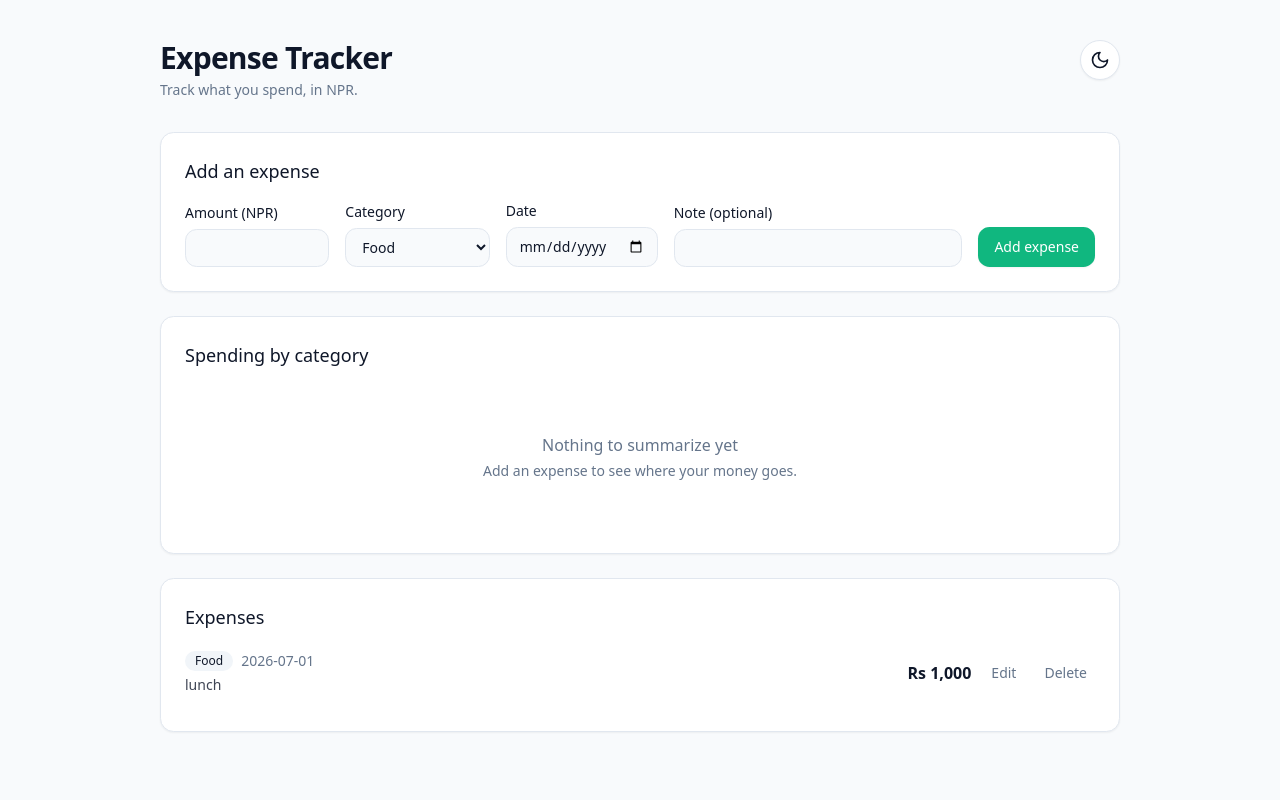
B-3: delete an expense through the running app › clicking a row's delete control removes it from the list without a reload
The image size is (1280, 800).
Expected: the text "Food" is shown, [185,651,233,671]
Click the button "Delete" at (1066,673), box [1036,659,1095,687]
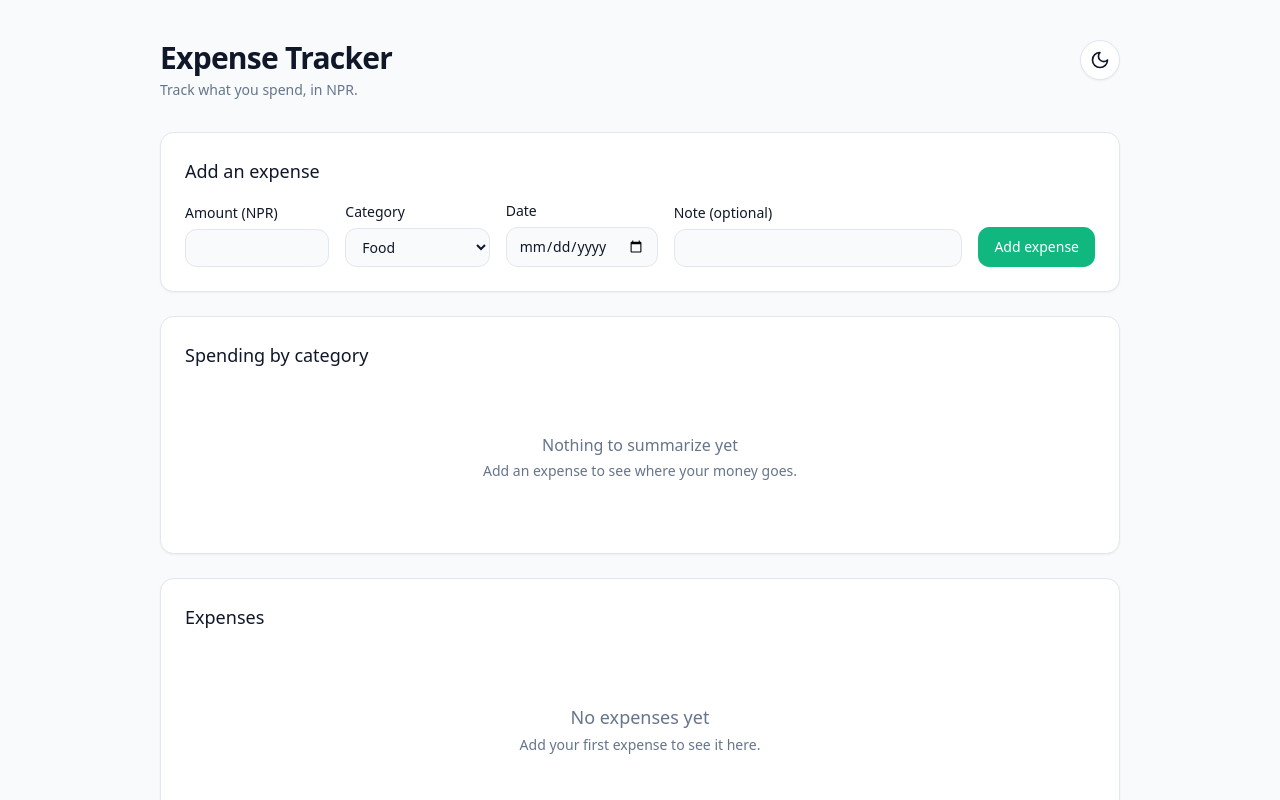
Expected: the text "No expenses yet" is shown, [571,705,709,729]
